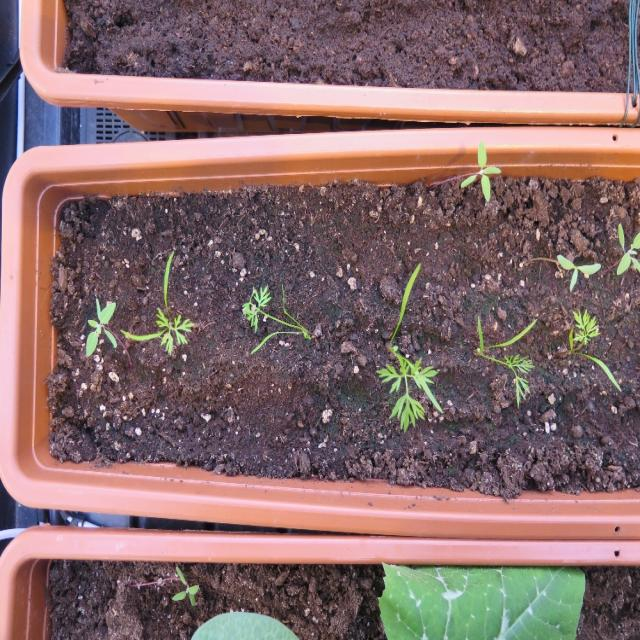crop: (374, 256, 444, 434), (120, 246, 195, 358), (473, 315, 538, 409), (240, 280, 314, 358), (567, 306, 622, 392)
weed: (459, 138, 502, 202), (85, 291, 116, 358), (555, 252, 601, 294), (170, 563, 199, 607)
